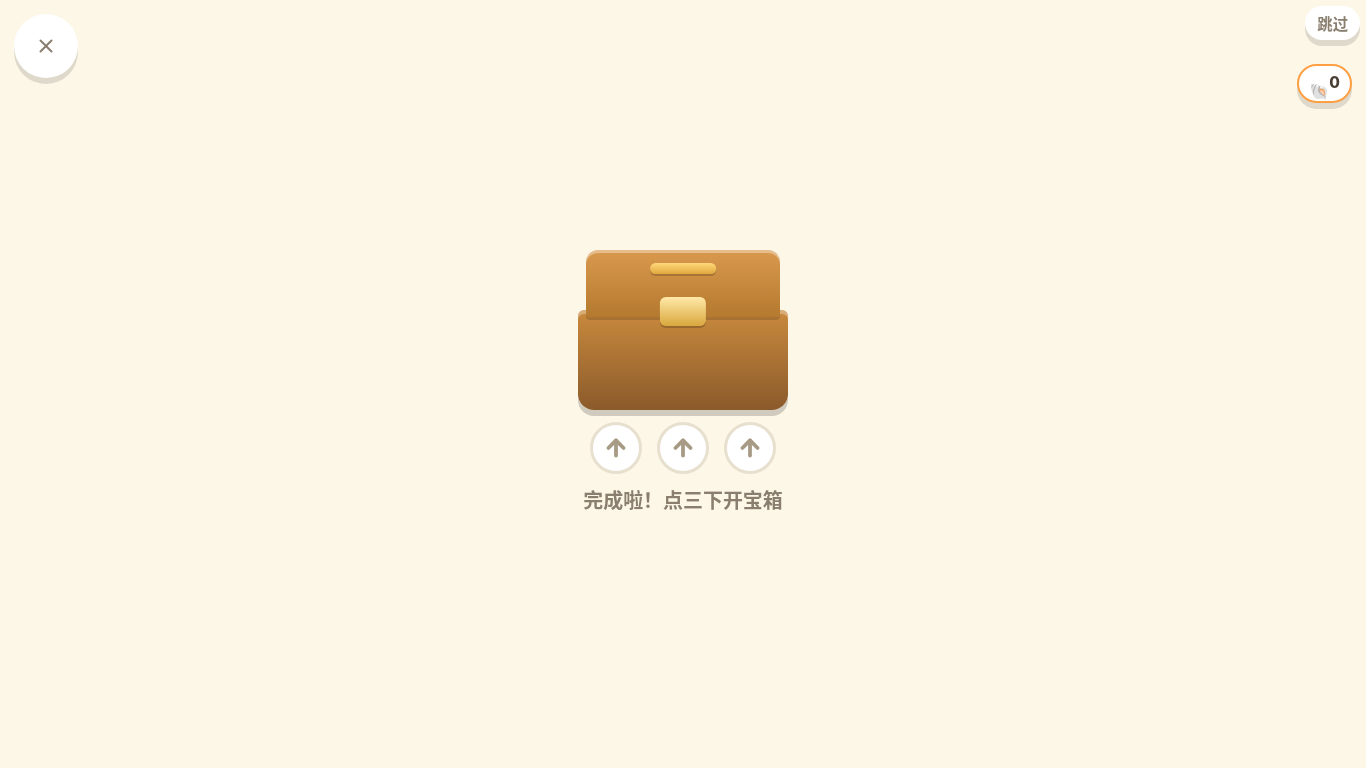
Test: ChestReward 收取动画：固定渲染、剩余原位 › 收取按钮带 ×N 计数（本次掉落数）
Click the element with class "chest" at (683, 330), box 578,250 -> 788,410
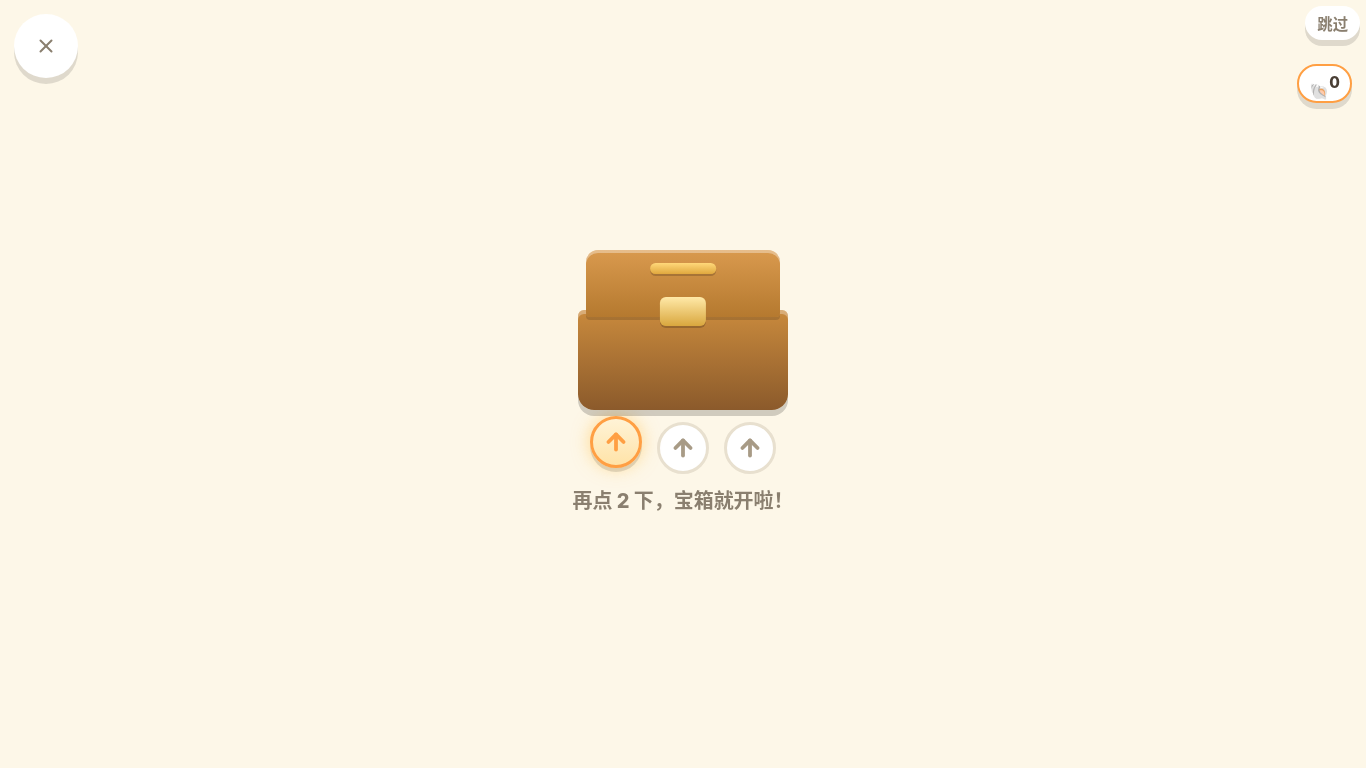
Click the element with class "chest" at (683, 330), box 578,250 -> 788,410
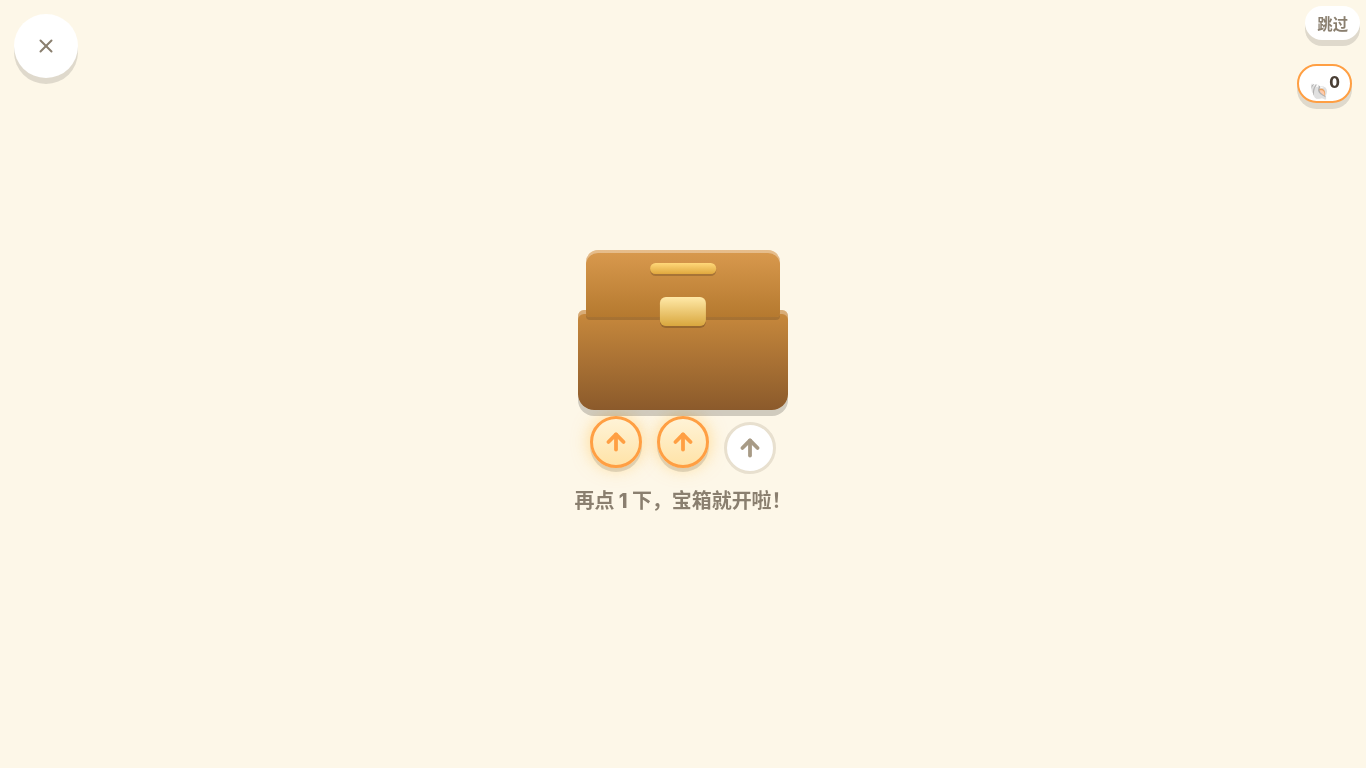
Click the element with class "chest" at (683, 330), box 578,250 -> 788,410
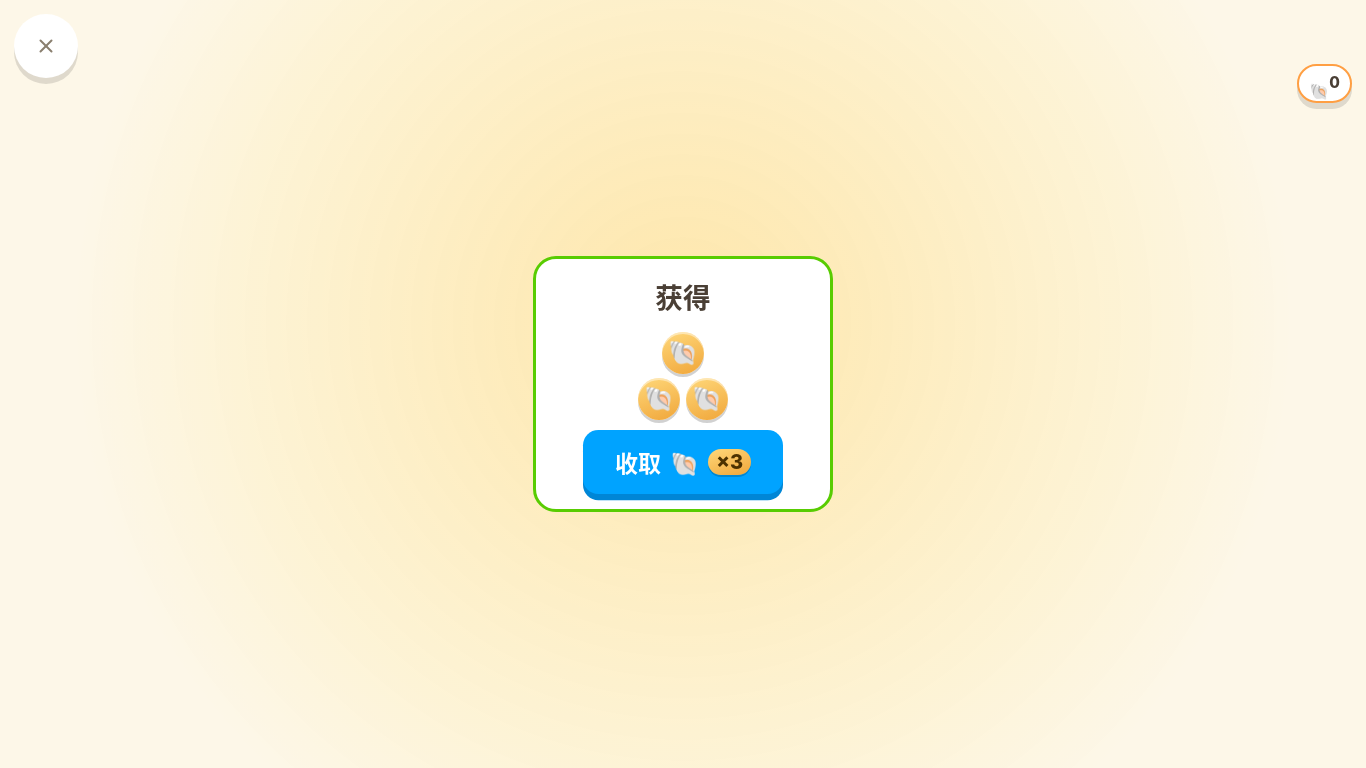
Now the text with class "cnt" reads "×3", box 716,450 -> 743,474
